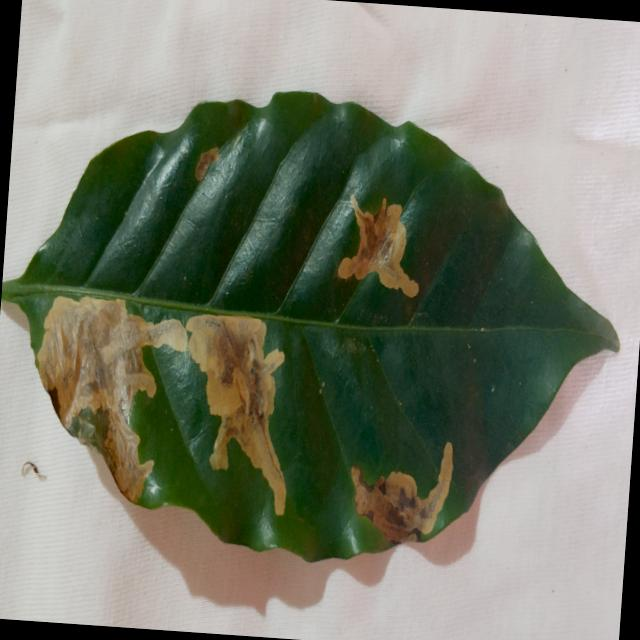KaratDaunKopi: (37, 297, 186, 502), (185, 314, 285, 515), (351, 443, 453, 543), (337, 195, 418, 297), (195, 147, 219, 181), (75, 415, 94, 445)
